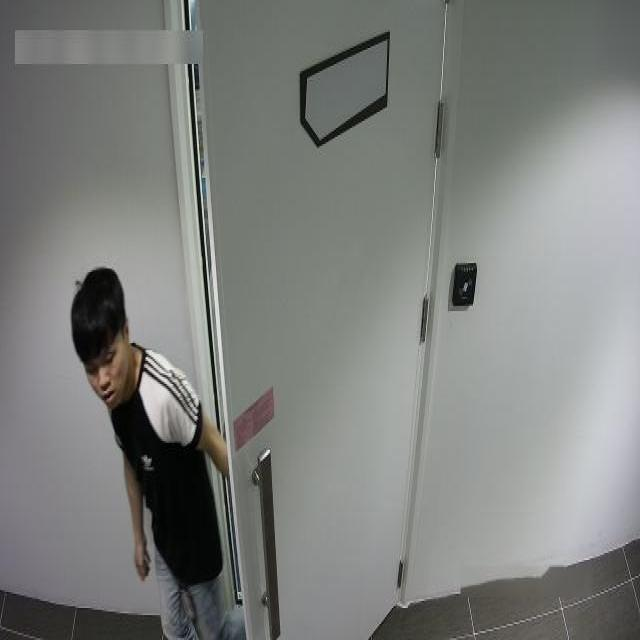bare_hand: (124, 528, 162, 597)
